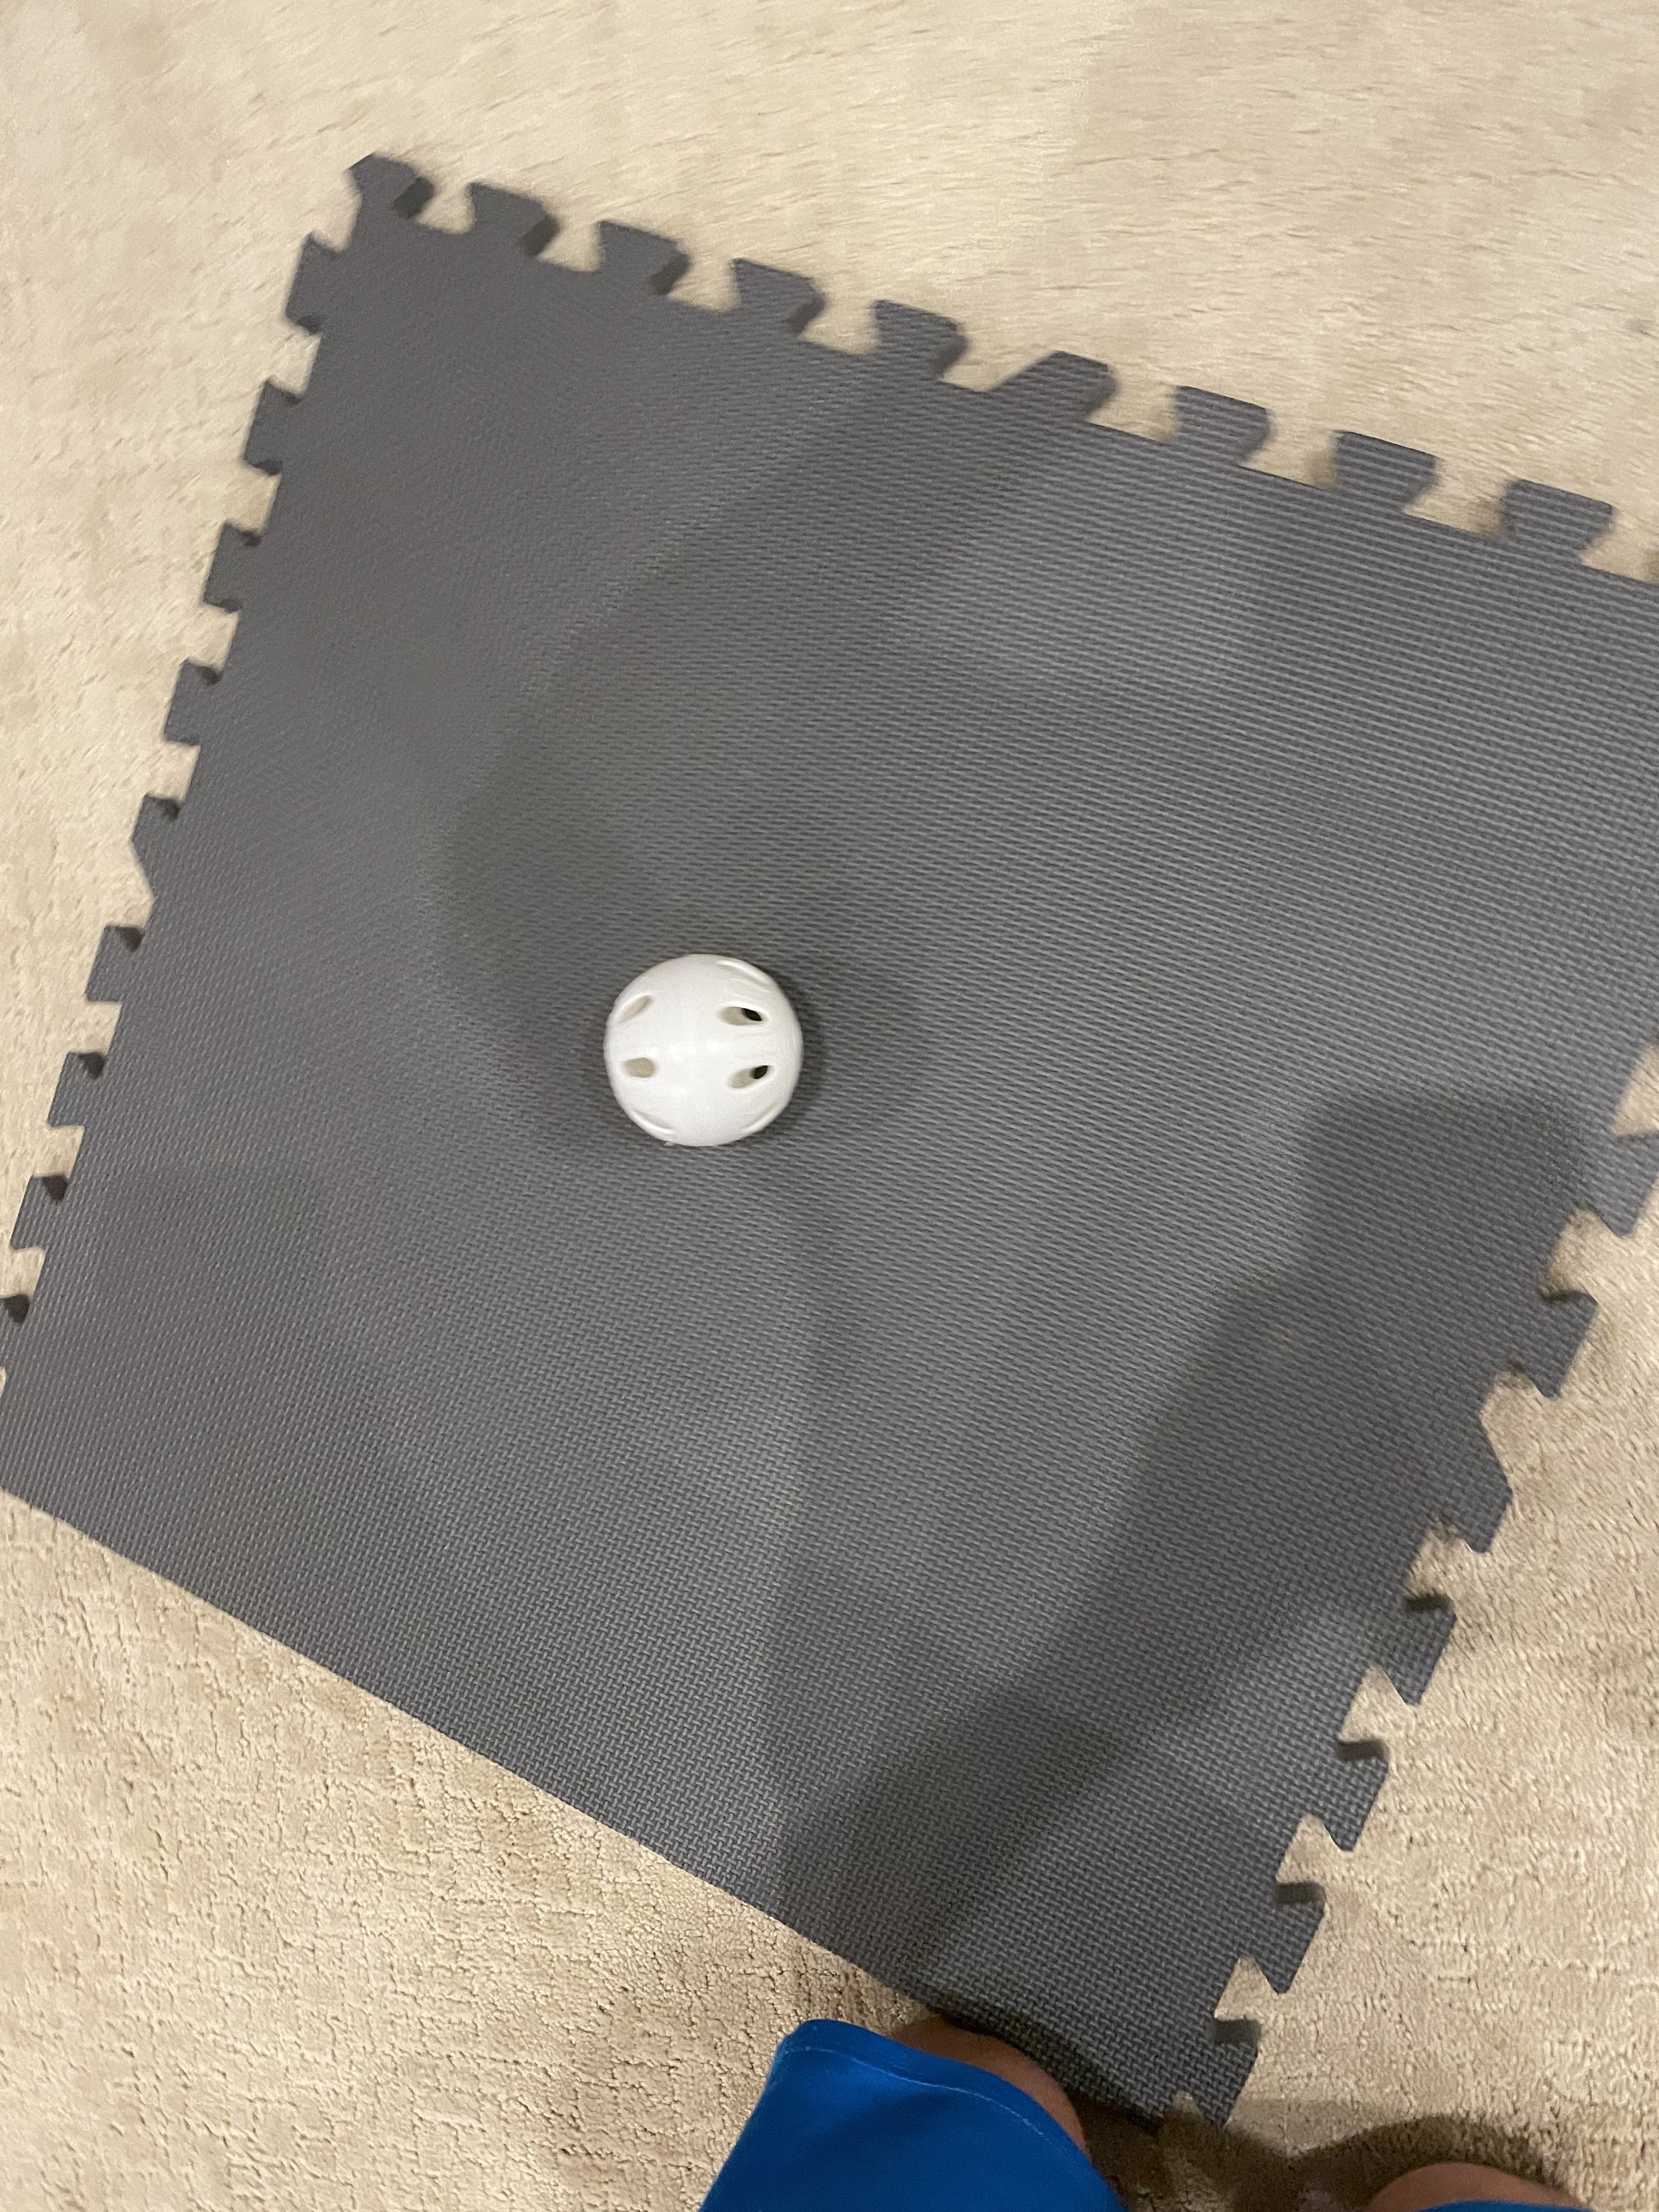ball: (559, 918, 812, 1170)
